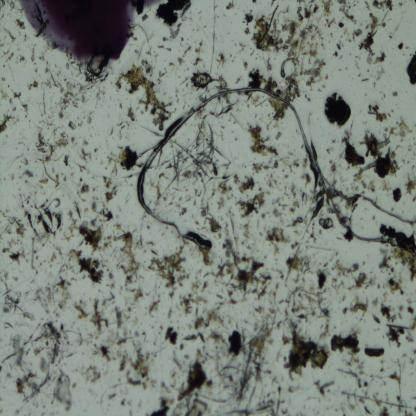Air bubble: (317, 217, 333, 230), (368, 104, 376, 116), (297, 215, 304, 224)
Background material: (0, 322, 70, 400), (228, 308, 275, 408), (115, 66, 174, 130), (204, 252, 272, 304), (58, 57, 104, 116), (284, 326, 333, 379), (282, 0, 321, 59), (105, 224, 141, 284), (376, 225, 416, 279), (284, 286, 334, 324), (148, 253, 190, 298), (0, 265, 34, 320), (252, 4, 287, 54), (33, 273, 72, 317), (196, 107, 218, 184), (206, 327, 230, 391), (69, 246, 105, 287), (95, 330, 128, 370), (178, 279, 211, 316), (33, 196, 62, 238), (178, 360, 206, 401), (246, 121, 278, 156), (171, 137, 195, 183), (325, 90, 353, 129), (342, 389, 392, 409), (129, 340, 158, 374), (155, 0, 194, 25), (329, 327, 361, 357), (106, 145, 143, 170), (300, 62, 330, 92), (54, 367, 74, 412), (284, 252, 312, 283), (234, 191, 265, 219), (338, 136, 364, 168), (0, 205, 25, 237), (78, 219, 101, 253), (307, 20, 325, 61), (36, 127, 55, 163), (194, 306, 223, 329), (209, 0, 218, 73), (217, 177, 236, 211), (260, 228, 289, 250), (359, 132, 382, 159), (122, 369, 155, 387), (251, 156, 280, 176), (4, 239, 28, 263), (391, 384, 410, 413), (358, 29, 379, 55), (374, 146, 391, 178), (228, 327, 247, 355), (350, 294, 370, 320), (93, 300, 108, 334), (91, 200, 113, 223), (124, 282, 145, 306), (385, 272, 406, 296), (268, 97, 289, 121), (149, 396, 174, 416), (330, 259, 359, 276), (183, 398, 210, 416), (375, 247, 393, 274), (390, 116, 412, 138), (385, 325, 408, 346), (226, 206, 240, 240), (284, 76, 302, 102), (22, 207, 37, 238), (189, 71, 218, 87), (353, 160, 376, 180), (162, 22, 183, 43), (300, 155, 313, 188), (255, 395, 275, 416), (203, 215, 221, 238), (0, 112, 18, 134), (247, 68, 265, 90), (380, 302, 398, 324), (264, 75, 282, 97), (102, 262, 116, 290), (80, 366, 100, 385), (282, 309, 299, 331), (73, 296, 89, 319), (317, 261, 329, 291), (171, 350, 186, 374), (348, 271, 366, 291), (180, 330, 205, 344), (406, 52, 416, 86), (238, 173, 254, 194), (156, 150, 172, 171), (88, 328, 99, 358), (199, 247, 214, 268), (50, 73, 65, 94), (339, 6, 356, 24), (144, 300, 161, 318), (164, 326, 180, 345), (177, 46, 193, 65), (314, 379, 334, 394), (391, 357, 402, 384), (273, 281, 284, 308), (124, 307, 138, 328), (30, 239, 40, 268), (195, 344, 211, 362), (247, 92, 265, 108), (221, 240, 237, 258), (43, 161, 56, 183), (194, 41, 205, 67), (68, 209, 77, 240), (114, 305, 125, 330), (342, 352, 360, 367), (241, 219, 255, 238), (404, 172, 416, 194), (204, 394, 228, 405), (222, 408, 254, 416), (180, 169, 203, 180), (140, 60, 154, 78), (226, 288, 240, 306), (372, 0, 394, 11), (308, 220, 319, 242), (344, 393, 356, 413), (364, 346, 384, 358), (302, 244, 332, 252), (170, 399, 184, 416), (374, 105, 388, 122), (331, 277, 345, 294), (217, 74, 230, 92), (56, 132, 69, 150), (317, 324, 331, 340), (106, 183, 117, 203), (118, 118, 128, 140), (275, 385, 282, 416), (371, 373, 389, 385), (213, 53, 227, 68), (49, 241, 63, 256), (269, 266, 284, 280), (175, 201, 188, 217), (219, 103, 235, 116), (321, 0, 333, 17), (368, 13, 380, 30), (364, 378, 376, 395), (338, 368, 358, 378), (273, 208, 284, 226), (389, 160, 400, 178), (162, 379, 173, 397), (372, 65, 384, 81), (287, 158, 299, 174), (287, 200, 300, 214), (275, 316, 289, 329), (364, 274, 377, 288), (373, 51, 386, 65), (80, 148, 92, 163), (241, 12, 256, 24), (19, 192, 30, 208), (170, 370, 179, 389), (102, 293, 115, 306), (40, 116, 54, 128), (57, 260, 69, 274), (134, 236, 145, 251), (4, 27, 15, 42), (155, 179, 161, 206), (267, 173, 277, 189), (359, 360, 369, 376), (265, 54, 273, 74), (270, 198, 286, 208), (392, 187, 402, 203), (125, 109, 137, 122), (38, 79, 52, 90), (345, 201, 356, 215), (377, 405, 391, 416), (201, 204, 212, 218), (26, 80, 40, 91), (173, 84, 179, 108), (147, 127, 163, 136), (211, 160, 219, 178), (381, 180, 391, 194), (74, 202, 82, 219), (305, 111, 314, 126), (288, 383, 300, 394), (352, 29, 362, 42), (178, 239, 188, 252), (102, 175, 112, 188), (128, 28, 138, 41), (366, 179, 376, 192), (380, 10, 388, 26), (223, 219, 230, 237), (243, 244, 257, 253), (79, 183, 90, 194), (158, 172, 170, 182), (292, 240, 302, 252), (344, 126, 354, 138), (300, 191, 308, 206), (0, 88, 9, 101), (22, 169, 35, 178), (62, 153, 70, 167), (177, 194, 191, 202), (157, 43, 171, 51), (238, 40, 246, 54), (278, 405, 288, 416), (129, 330, 140, 340), (324, 18, 335, 28), (226, 0, 236, 11), (16, 19, 26, 30), (234, 74, 244, 85), (406, 330, 415, 342), (362, 404, 371, 416), (228, 114, 237, 126), (410, 314, 416, 332), (206, 381, 215, 393), (78, 330, 84, 348), (275, 347, 282, 362), (7, 51, 15, 64), (383, 133, 391, 146), (18, 52, 26, 65), (168, 194, 176, 207), (52, 127, 58, 144), (270, 376, 280, 386), (343, 232, 353, 242), (76, 164, 86, 174), (4, 320, 14, 330), (157, 68, 167, 78), (280, 156, 289, 167), (67, 119, 76, 130), (220, 160, 231, 169), (210, 107, 219, 118), (350, 180, 359, 191), (21, 102, 28, 116), (328, 159, 334, 175), (38, 177, 50, 185), (182, 99, 190, 111), (325, 144, 333, 156), (31, 44, 36, 63), (108, 123, 115, 136), (168, 306, 174, 321), (194, 187, 203, 197), (178, 76, 188, 85), (7, 0, 16, 10), (55, 173, 61, 188), (232, 174, 240, 185), (372, 312, 379, 324), (44, 61, 50, 75), (291, 184, 297, 198), (283, 184, 289, 198), (402, 358, 408, 372), (243, 25, 250, 37), (339, 404, 346, 416), (108, 392, 117, 401), (166, 60, 176, 68), (110, 166, 118, 176), (14, 90, 22, 100), (209, 187, 215, 200), (357, 377, 363, 390), (337, 40, 344, 51), (337, 0, 348, 7), (272, 245, 279, 256), (50, 251, 56, 263), (38, 54, 47, 62), (140, 14, 149, 22), (366, 53, 372, 65), (288, 220, 296, 229), (224, 94, 232, 103), (305, 94, 312, 104), (390, 150, 397, 160), (274, 131, 281, 141), (22, 32, 29, 42), (86, 113, 92, 124), (364, 0, 370, 11), (349, 33, 355, 44), (120, 397, 126, 408), (132, 48, 140, 56), (144, 222, 152, 230), (312, 408, 320, 416), (13, 407, 21, 415), (380, 292, 387, 301), (141, 332, 148, 341), (407, 307, 414, 316), (404, 409, 413, 416), (242, 61, 248, 71), (266, 121, 272, 131), (260, 213, 267, 221), (264, 368, 271, 376), (2, 48, 10, 55), (198, 96, 206, 103), (144, 240, 155, 245), (219, 131, 224, 142), (361, 179, 367, 188), (78, 119, 84, 128), (64, 61, 70, 70), (338, 175, 344, 184), (167, 162, 173, 171), (148, 34, 154, 43), (0, 0, 6, 9), (372, 297, 378, 306), (398, 42, 404, 51), (10, 172, 15, 182), (171, 186, 181, 191), (411, 151, 416, 161), (292, 411, 302, 416), (24, 157, 29, 167), (287, 150, 294, 157), (377, 142, 384, 149), (408, 357, 415, 364), (126, 400, 133, 407), (342, 306, 348, 314), (82, 139, 88, 147), (398, 304, 404, 312), (0, 41, 6, 49), (401, 352, 407, 360), (43, 90, 45, 114), (218, 300, 227, 305), (354, 61, 359, 70), (395, 24, 400, 33), (363, 128, 370, 134), (146, 49, 152, 56), (266, 391, 272, 398), (18, 152, 25, 158), (84, 207, 90, 214), (186, 324, 193, 330), (0, 13, 5, 21), (181, 38, 186, 46), (342, 293, 347, 301), (307, 394, 312, 402), (344, 27, 349, 35), (398, 310, 402, 320), (361, 120, 369, 125), (184, 354, 190, 360), (270, 0, 276, 6), (407, 145, 413, 151), (27, 143, 31, 152), (332, 51, 338, 57), (412, 194, 416, 203), (152, 250, 158, 256), (163, 195, 168, 202), (256, 57, 263, 62), (411, 121, 416, 128), (401, 158, 406, 165), (407, 299, 411, 307), (193, 198, 197, 206), (362, 78, 370, 82), (18, 142, 26, 146), (180, 342, 184, 350), (233, 40, 237, 48), (236, 99, 241, 105), (410, 396, 416, 401), (379, 368, 385, 373), (338, 22, 344, 27), (280, 400, 286, 405), (395, 144, 401, 149), (218, 294, 224, 299), (359, 398, 365, 403), (1, 76, 6, 82), (336, 236, 342, 241), (11, 107, 17, 112), (357, 72, 362, 78), (128, 409, 132, 416), (372, 81, 376, 88), (236, 108, 241, 113), (405, 45, 410, 50), (362, 190, 366, 196), (64, 175, 67, 183), (92, 186, 96, 192), (79, 178, 83, 184), (186, 82, 189, 90), (380, 360, 386, 364), (72, 137, 76, 143), (35, 66, 39, 72), (252, 0, 258, 4), (360, 22, 364, 28), (160, 324, 164, 330), (52, 167, 55, 175), (339, 54, 343, 60), (235, 136, 238, 143), (377, 284, 381, 289), (92, 196, 97, 200), (330, 33, 334, 38), (365, 25, 369, 30), (366, 68, 370, 73), (387, 113, 391, 118), (399, 1, 403, 6), (384, 127, 388, 132), (372, 215, 376, 220), (155, 54, 158, 60), (413, 349, 416, 355), (362, 260, 365, 266), (232, 58, 235, 64), (24, 180, 28, 184), (18, 165, 22, 169), (400, 138, 404, 142), (221, 125, 225, 129), (388, 36, 392, 40), (414, 406, 416, 414), (94, 148, 98, 152), (412, 136, 416, 140), (391, 207, 395, 211), (411, 165, 414, 170), (251, 50, 254, 55), (383, 283, 385, 289), (344, 38, 348, 41), (302, 404, 305, 408), (384, 93, 386, 99), (328, 40, 331, 44), (348, 5, 351, 9), (336, 250, 338, 256), (413, 142, 416, 146), (244, 165, 247, 168), (196, 222, 199, 225), (355, 55, 358, 58), (391, 110, 394, 113), (340, 35, 343, 38), (365, 92, 367, 96), (301, 144, 303, 148), (407, 160, 409, 164), (388, 18, 392, 20), (359, 56, 361, 60), (352, 4, 356, 6), (336, 409, 338, 413), (366, 19, 368, 23), (392, 47, 394, 50), (389, 62, 392, 64), (349, 53, 351, 56), (414, 0, 416, 3), (381, 98, 383, 100), (269, 194, 271, 196), (348, 2, 350, 4), (379, 92, 383, 93), (403, 54, 405, 56), (357, 2, 359, 3), (406, 91, 407, 93)
Diatom: (392, 90, 398, 96), (382, 21, 386, 28)
Glass filter fibre: (280, 57, 293, 78)
Microfibre: (139, 85, 416, 249)
Pen: (20, 0, 156, 60)
